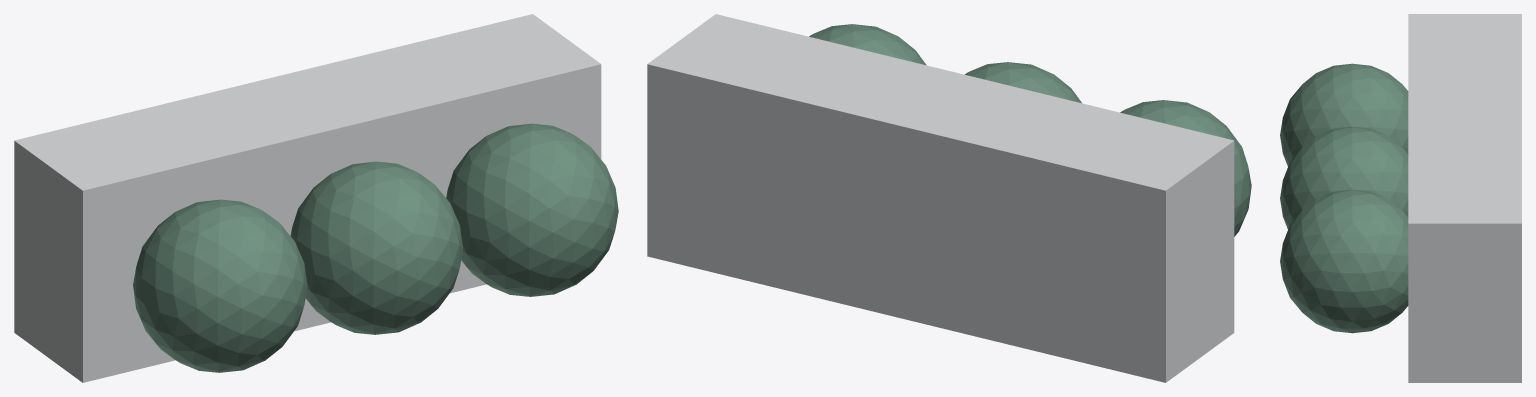
Rendered from ice_grey_illuminated_planter.glb.
The picture shows the model from 3 angles, left to right: view 1: azimuth 30°, elevation 25°; view 2: azimuth 150°, elevation 25°; view 3: azimuth 270°, elevation 25°; orthographic projection. The views are drawn at different scales.
Parts seen in each view (by area): view 1: ice_grey_illuminated_planter_part_0, ice_grey_illuminated_planter_part_1, ice_grey_illuminated_planter_part_2, ice_grey_illuminated_planter_part_3; view 2: ice_grey_illuminated_planter_part_0, ice_grey_illuminated_planter_part_1, ice_grey_illuminated_planter_part_3, ice_grey_illuminated_planter_part_2; view 3: ice_grey_illuminated_planter_part_0, ice_grey_illuminated_planter_part_3, ice_grey_illuminated_planter_part_2, ice_grey_illuminated_planter_part_1.
Part boxes in pixels (x1,y1,x2,y2): ice_grey_illuminated_planter_part_0: [14, 14, 601, 382]; ice_grey_illuminated_planter_part_1: [133, 199, 307, 372]; ice_grey_illuminated_planter_part_2: [290, 161, 462, 334]; ice_grey_illuminated_planter_part_3: [446, 123, 618, 296]; ice_grey_illuminated_planter_part_0: [647, 14, 1234, 382]; ice_grey_illuminated_planter_part_1: [1120, 100, 1251, 236]; ice_grey_illuminated_planter_part_3: [809, 24, 926, 65]; ice_grey_illuminated_planter_part_2: [965, 62, 1081, 103]; ice_grey_illuminated_planter_part_0: [1408, 14, 1521, 382]; ice_grey_illuminated_planter_part_3: [1280, 189, 1408, 333]; ice_grey_illuminated_planter_part_2: [1280, 126, 1408, 229]; ice_grey_illuminated_planter_part_1: [1280, 63, 1408, 166].
Size of the model in its own units: 2.4 by 0.85 by 1.17.
